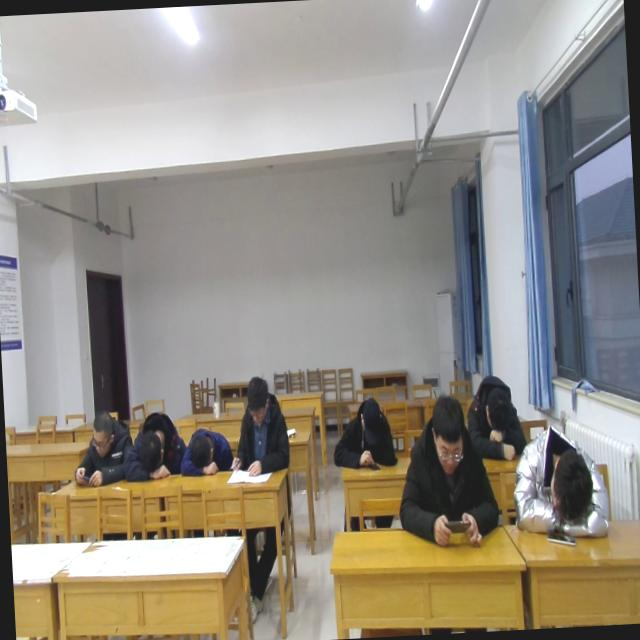bow: (509, 422, 614, 548), (465, 368, 529, 464), (70, 402, 136, 492), (329, 393, 398, 471), (120, 407, 188, 484), (176, 422, 236, 479)
down: (426, 392, 468, 484), (427, 500, 484, 550), (86, 406, 122, 456), (185, 426, 221, 476), (240, 372, 272, 427), (136, 428, 168, 478), (352, 394, 382, 440)
sit: (392, 388, 502, 554), (225, 374, 291, 480)
